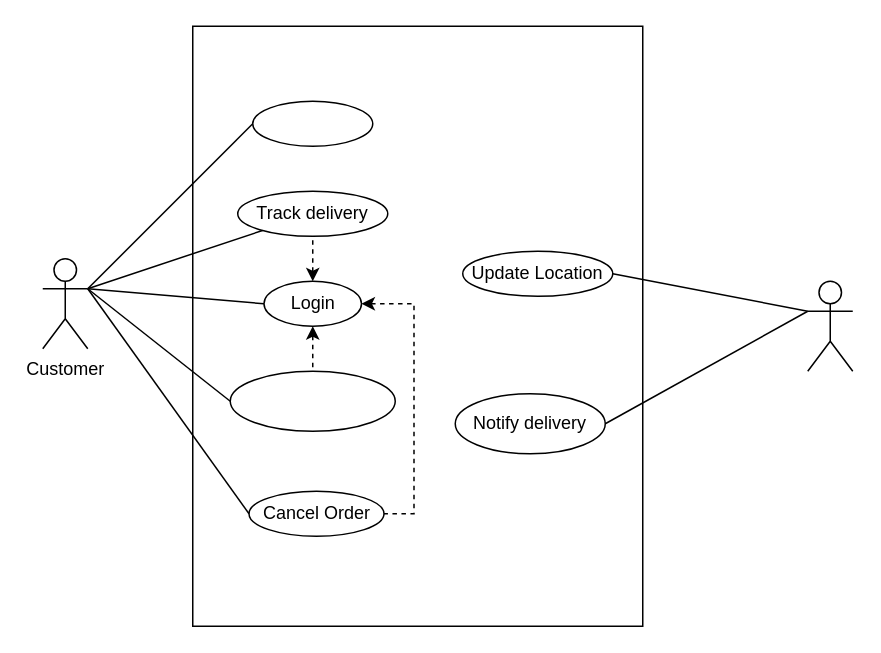
Image size: 881x653. Some labels were removed from this diagram. The shapes that lost their labels are listed below. From the top down, each one's centre as x and y in pixels, then its label:
(312,123): Register
(829,325): Drone
(312,400): Place delivery Order
